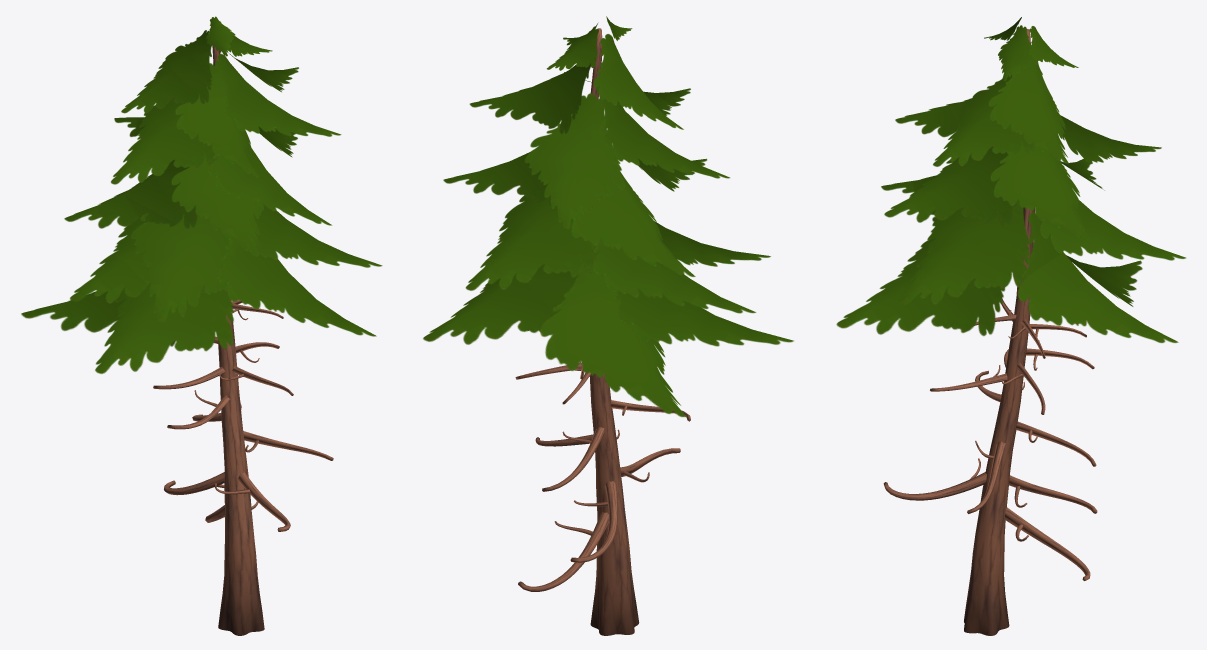
The model's file is n_pine.glb.
3 renders of one model, left to right at view 1: azimuth 30°, elevation 25°; view 2: azimuth 150°, elevation 25°; view 3: azimuth 270°, elevation 25°, orthographic. The views are drawn at different scales.
Parts seen in each view (by area): view 1: Pine_3; view 2: Pine_3; view 3: Pine_3.
Part boxes in pixels (x1=…): Pine_3: x1=21, y1=16, x2=382, y2=635; Pine_3: x1=423, y1=16, x2=793, y2=635; Pine_3: x1=836, y1=17, x2=1185, y2=635.
Bounding box in the file's own units: 3.61 × 7.39 × 4.
Materials: 2 (2 with a texture image).
